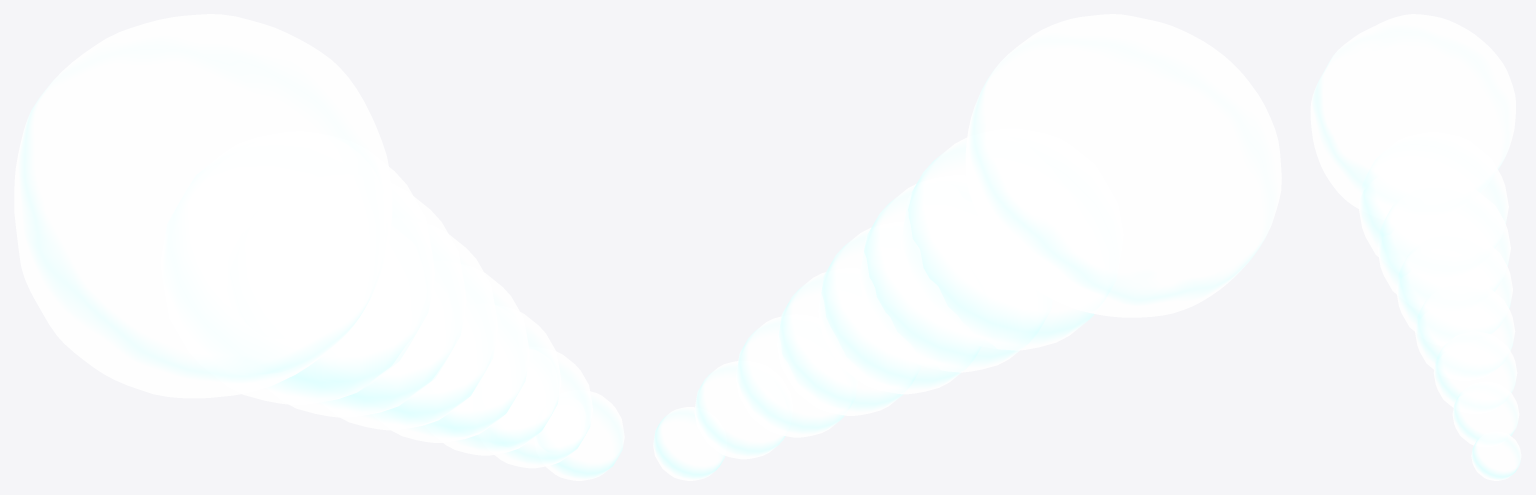
Rendered from comet-core.glb.
3 views of the same model, side by side, from view 1: azimuth 30°, elevation 25°; view 2: azimuth 150°, elevation 25°; view 3: azimuth 270°, elevation 25° (orthographic). The views are drawn at different scales.
Visible parts, largest first — view 1: Icosphere, Sphere, Sphere.001, Sphere.002, Sphere.003, Sphere.004, Sphere.005, Sphere.006; view 2: Icosphere, Sphere, Sphere.001, Sphere.002, Sphere.003, Sphere.004, Sphere.005, Sphere.006; view 3: Icosphere, Sphere, Sphere.001, Sphere.002, Sphere.003, Sphere.004, Sphere.005, Sphere.006.
Part boxes in pixels (x1,y1,x2,y2): Icosphere: [14, 14, 392, 398]; Sphere: [161, 131, 434, 404]; Sphere.001: [267, 186, 466, 417]; Sphere.002: [321, 226, 498, 430]; Sphere.003: [373, 264, 529, 442]; Sphere.004: [427, 305, 561, 455]; Sphere.005: [479, 348, 592, 468]; Sphere.006: [536, 391, 624, 480]; Icosphere: [965, 14, 1281, 317]; Sphere: [901, 129, 1122, 350]; Sphere.001: [859, 175, 1052, 372]; Sphere.002: [818, 221, 980, 394]; Sphere.003: [777, 268, 920, 415]; Sphere.004: [735, 314, 857, 437]; Sphere.005: [694, 361, 792, 459]; Sphere.006: [653, 407, 726, 480]; Icosphere: [1310, 14, 1515, 219]; Sphere: [1358, 132, 1508, 272]; Sphere.001: [1377, 183, 1510, 309]; Sphere.002: [1396, 236, 1512, 345]; Sphere.003: [1415, 282, 1515, 380]; Sphere.004: [1433, 332, 1517, 413]; Sphere.005: [1452, 381, 1519, 447]; Sphere.006: [1471, 431, 1521, 480].
Bounding box in the file's own units: 1.47 × 1.3 × 0.7459.
